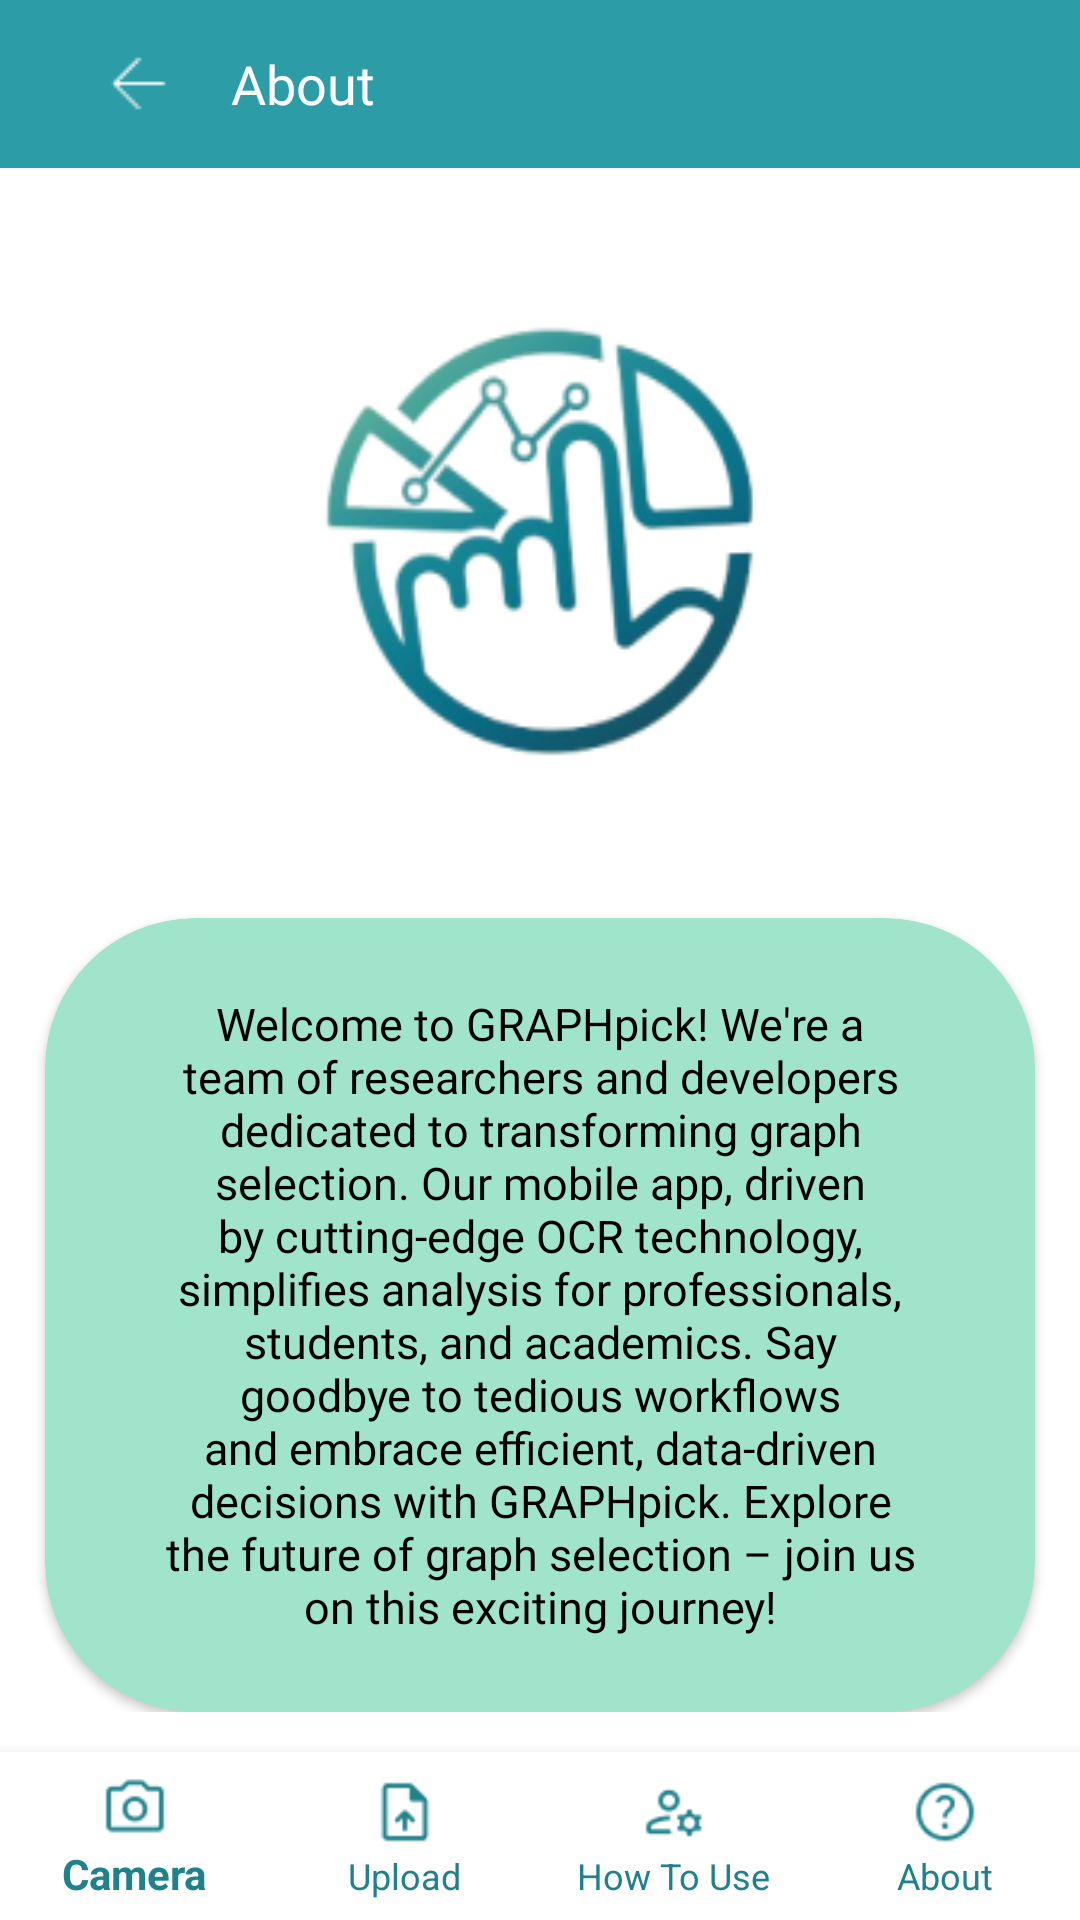

Icons on this 1080 × 1920 Android screen, each with its box as (x1, y1, x2, y2):
fback: (111, 57, 166, 110)
